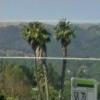Tree: (16, 10, 78, 61)
